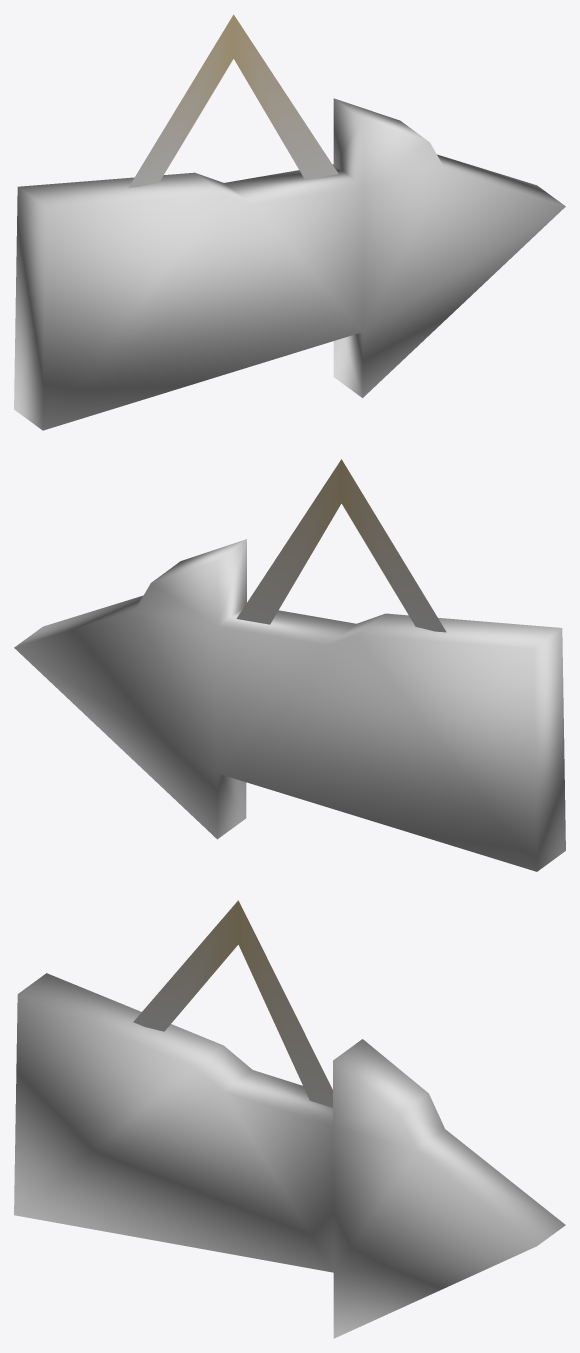
File: Props_C11_2.FBX
3 views of the same model, one above another, from view 1: azimuth 30°, elevation 25°; view 2: azimuth 150°, elevation 25°; view 3: azimuth 330°, elevation 25° (orthographic).
Visible parts, largest first — view 1: Props_C11_2; view 2: Props_C11_2; view 3: Props_C11_2.
Part boxes in pixels (x1,y1,x2,y2): Props_C11_2: [14, 14, 565, 430]; Props_C11_2: [14, 459, 565, 871]; Props_C11_2: [14, 900, 565, 1338].
Bounding box in the file's own units: 189 × 138 × 18.56.
